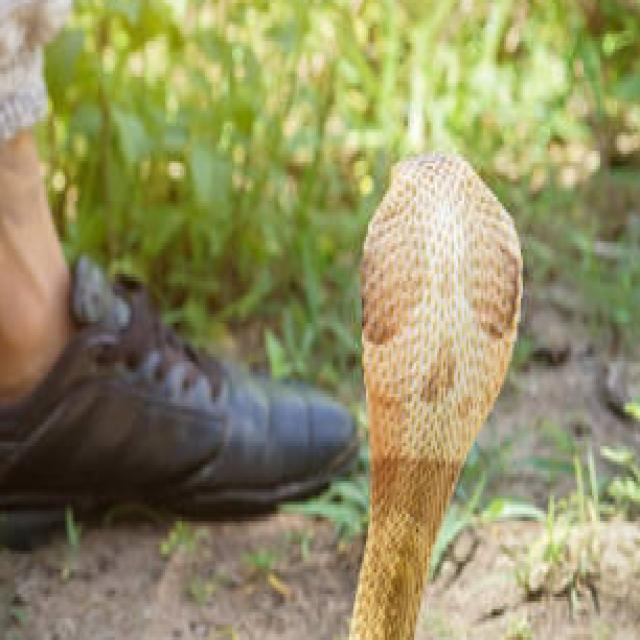Snake: (334, 147, 640, 640)
